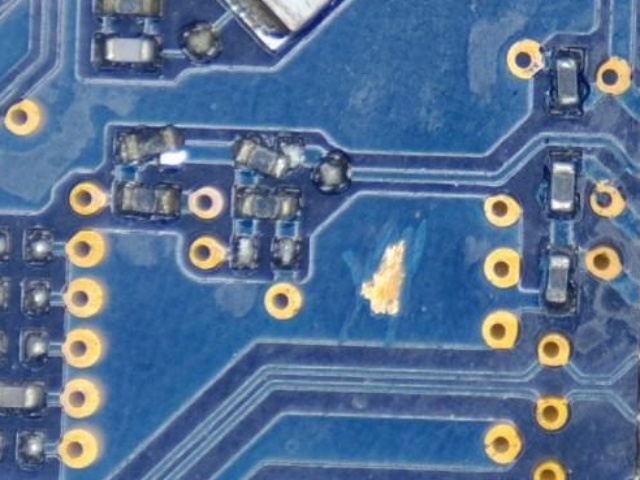pcb_defect: (361, 242, 405, 314), (234, 135, 301, 179), (116, 126, 187, 165), (640, 461, 640, 480), (638, 480, 640, 480), (640, 400, 640, 443), (640, 338, 640, 380), (640, 276, 640, 314), (640, 214, 640, 257), (640, 151, 640, 196), (640, 89, 640, 135)
